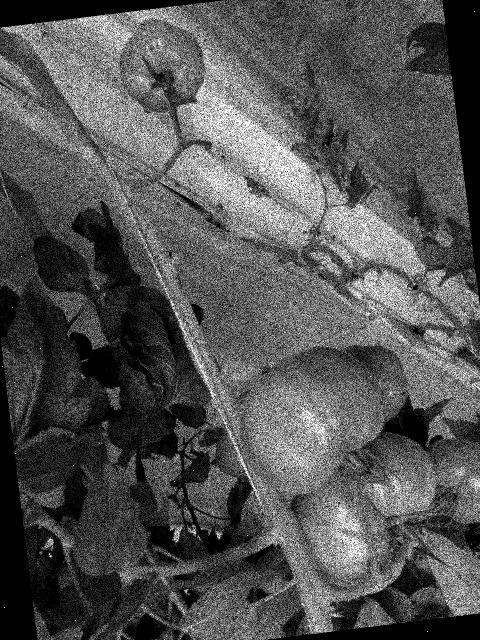b_green: (114, 12, 211, 119), (340, 339, 412, 425), (424, 434, 480, 528), (212, 427, 249, 481)
b_half_ripened: (282, 425, 449, 604), (230, 339, 396, 500)
